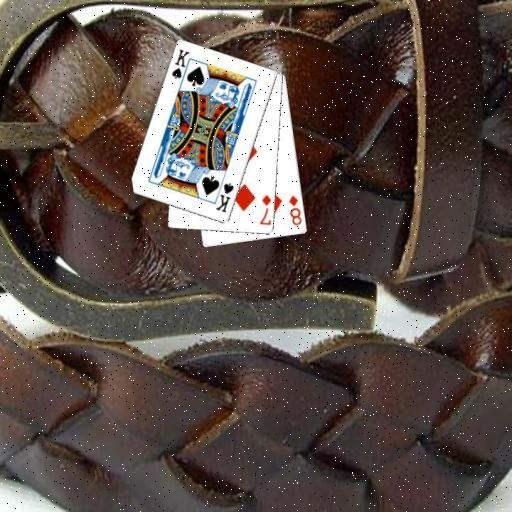7D: (257, 192, 273, 227)
8D: (286, 192, 303, 227)
KS: (169, 47, 193, 86), (213, 180, 236, 214)
